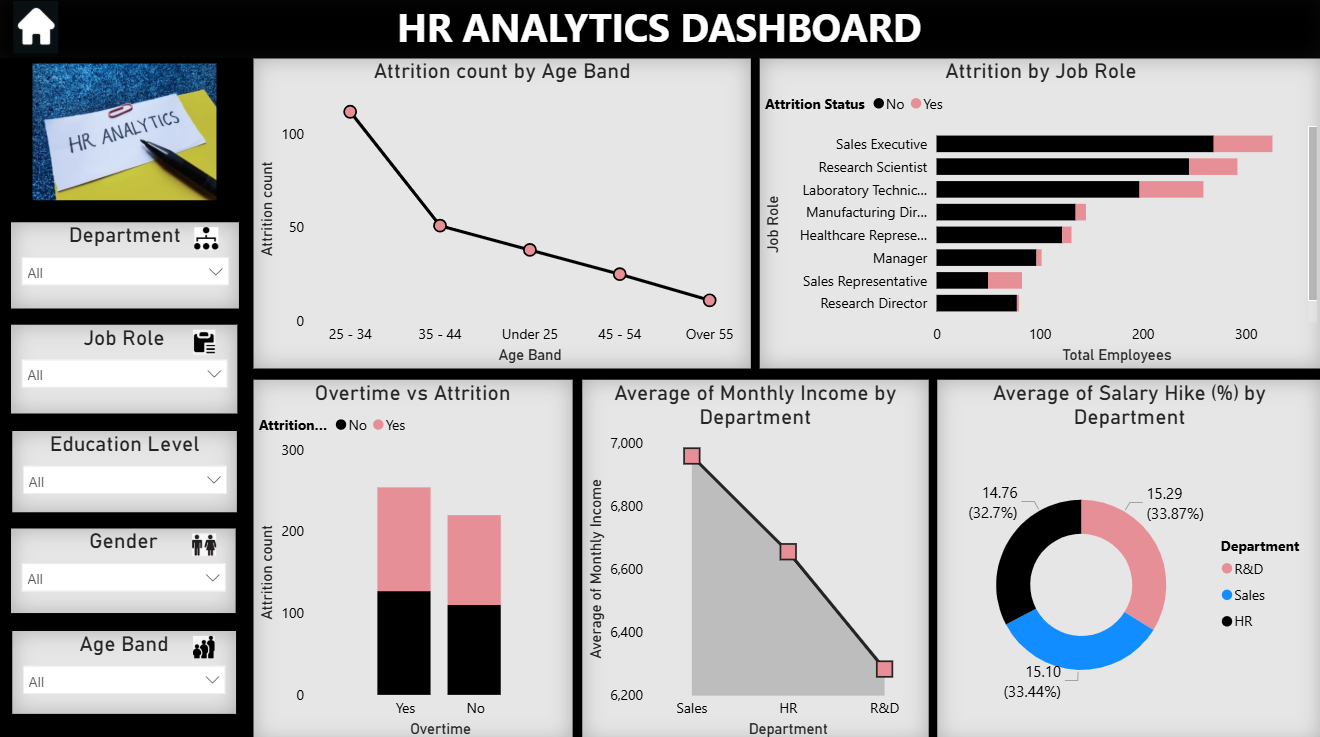

This screenshot's page, from the dashboard's own definition file:
{"tool":"powerbi","page":{"name":"Attrition Trends & Drivers","canvas":[1280,720],"ordinal":2},"visuals":[{"type":"columnChart","title":"Overtime vs Attrition ","fields":{"Y":["HR_data.Attrition count"],"Category":["HR_data.Overtime"],"Series":["HR_data.Attrition Status"]},"box":[248.5,370.4,307.6,349.9],"z":0},{"type":"textbox","box":[0,0,1280,60.3],"z":1000},{"type":"barChart","title":"Attrition by Job Role","fields":{"Category":["HR_data.Job Role"],"Y":["HR_data.Total Employees"],"Series":["HR_data.Attrition Status"]},"box":[737.1,60.3,542.9,299.2],"z":2000},{"type":"lineChart","fields":{"Category":["HR_data.Age Band"],"Y":["HR_data.Attrition count"]},"box":[248.5,60.3,480.2,299.2],"z":3000},{"type":"image","box":[0,60,248.6,141.4],"z":4000},{"type":"slicer","title":"Department","fields":{"Values":["HR_data.Department"]},"box":[14.3,218.6,220,82.9],"z":5000},{"type":"slicer","title":"Job Role","fields":{"Values":["HR_data.Job Role"]},"box":[14.3,317.1,218.6,85.7],"z":6000},{"type":"slicer","title":"Education Level","fields":{"Values":["HR_data.Education Level"]},"box":[15.7,420,217.1,78.6],"z":7000},{"type":"slicer","title":"Gender","fields":{"Values":["HR_data.Gender"]},"box":[14.3,514.3,217.1,81.4],"z":8000},{"type":"slicer","title":"Age Band","fields":{"Values":["HR_data.Age Band"]},"box":[15.7,612.9,215.7,80],"z":9000},{"type":"donutChart","title":"Average of Salary Hike (%) by Department","fields":{"Y":["Avg(HR_data.Percent Salary Hike (%))"],"Category":["HR_data.Department"]},"box":[908.6,370,371.4,350],"z":10000},{"type":"lineChart","fields":{"Y":["Avg(HR_data.Monthly Income)"],"Category":["HR_data.Department"]},"box":[565.8,370.4,334.2,349.9],"z":11000},{"type":"image","box":[170.1,513.9,61.5,31.4],"z":12000},{"type":"image","box":[185.8,218.4,33.8,31.4],"z":13000},{"type":"image","box":[170.1,317.3,61.5,33.8],"z":14000},{"type":"image","box":[177.3,612.9,47.1,31.4],"z":15000},{"type":"image","box":[0,0,77.2,60.3],"z":16000}]}

Visuals, with their boxes in screenshot pixels (x1, y1, x2, y2), scaled from the page's 1280x720 canvas onto the 1320x737 screenshot:
"Overtime vs Attrition " columnChart: [x1=256, y1=379, x2=573, y2=736]
textbox: [x1=0, y1=0, x2=1319, y2=62]
"Attrition by Job Role" barChart: [x1=760, y1=62, x2=1319, y2=368]
lineChart - HR_data.Age Band x HR_data.Attrition count: [x1=256, y1=62, x2=751, y2=368]
image: [x1=0, y1=61, x2=256, y2=206]
"Department" slicer: [x1=15, y1=224, x2=242, y2=309]
"Job Role" slicer: [x1=15, y1=325, x2=240, y2=412]
"Education Level" slicer: [x1=16, y1=430, x2=240, y2=510]
"Gender" slicer: [x1=15, y1=526, x2=239, y2=610]
"Age Band" slicer: [x1=16, y1=627, x2=239, y2=709]
"Average of Salary Hike (%) by Department" donutChart: [x1=937, y1=379, x2=1319, y2=736]
lineChart - Avg(HR_data.Monthly Income) x HR_data.Department: [x1=583, y1=379, x2=928, y2=736]
image: [x1=175, y1=526, x2=239, y2=558]
image: [x1=192, y1=224, x2=226, y2=256]
image: [x1=175, y1=325, x2=239, y2=359]
image: [x1=183, y1=627, x2=231, y2=660]
image: [x1=0, y1=0, x2=80, y2=62]
